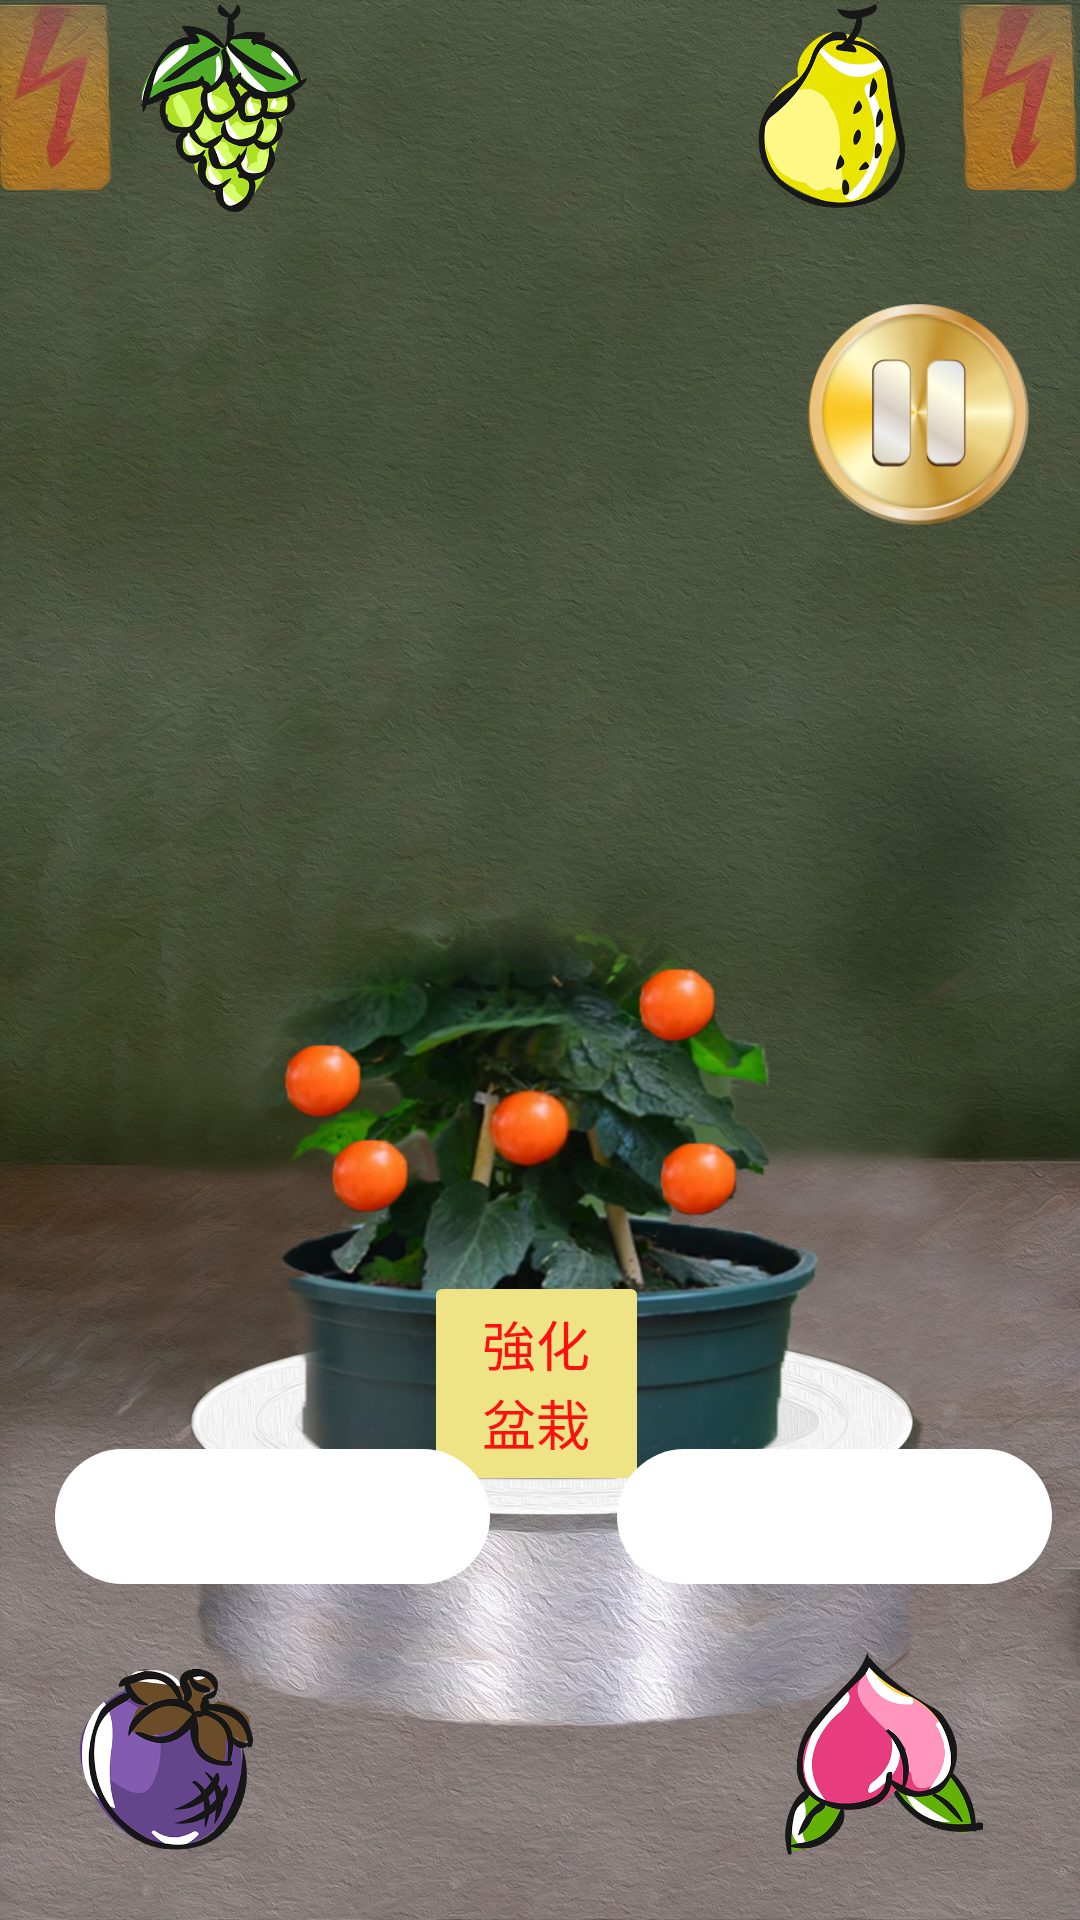

Point at icon controls on the screen. Image size 1080x1920, points as (x=x, y=y).
pau: (x=918, y=414)
